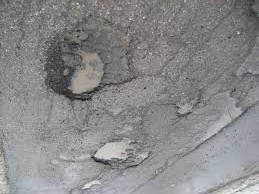pothole: (44, 33, 113, 101), (201, 95, 247, 149), (90, 136, 154, 172), (177, 92, 199, 122)
